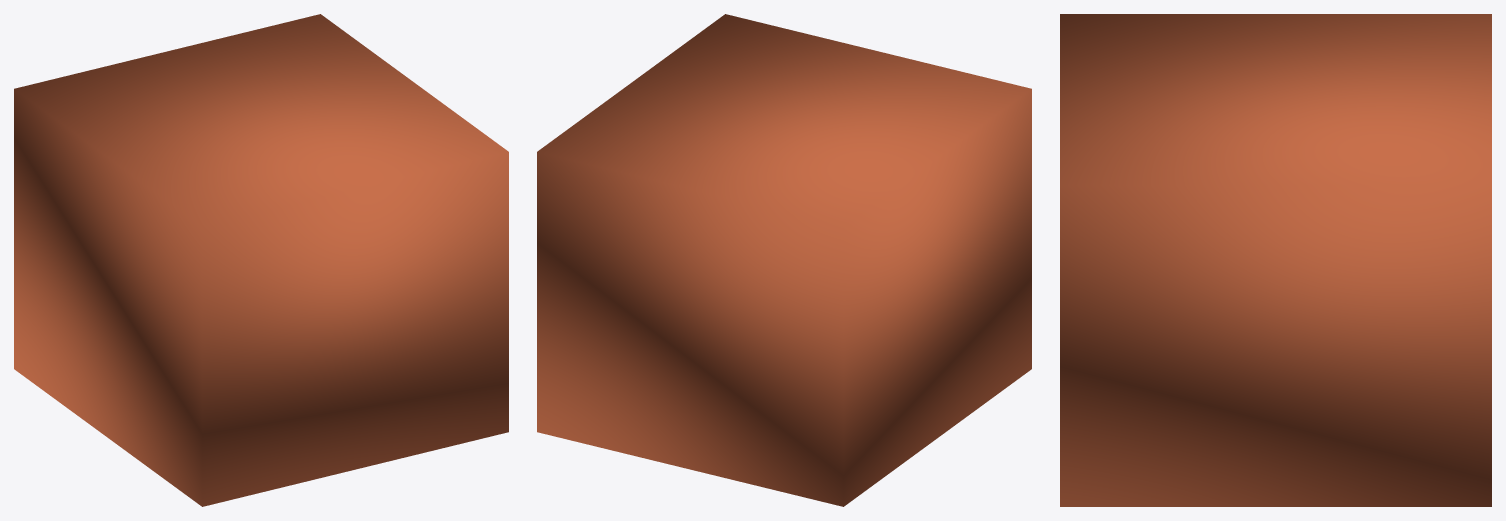
The picture shows the model from 3 angles, left to right: view 1: azimuth 30°, elevation 25°; view 2: azimuth 150°, elevation 25°; view 3: azimuth 270°, elevation 25°; orthographic projection. The views are drawn at different scales.
Visible parts, largest first — view 1: 立方体; view 2: 立方体; view 3: 立方体.
Boxes of the visible parts, box(x1,y1,x2,y2) form: 立方体: box(14, 14, 508, 506); 立方体: box(537, 14, 1031, 506); 立方体: box(1060, 14, 1491, 506).
Size of the model in its own units: 305 by 267 by 325.
